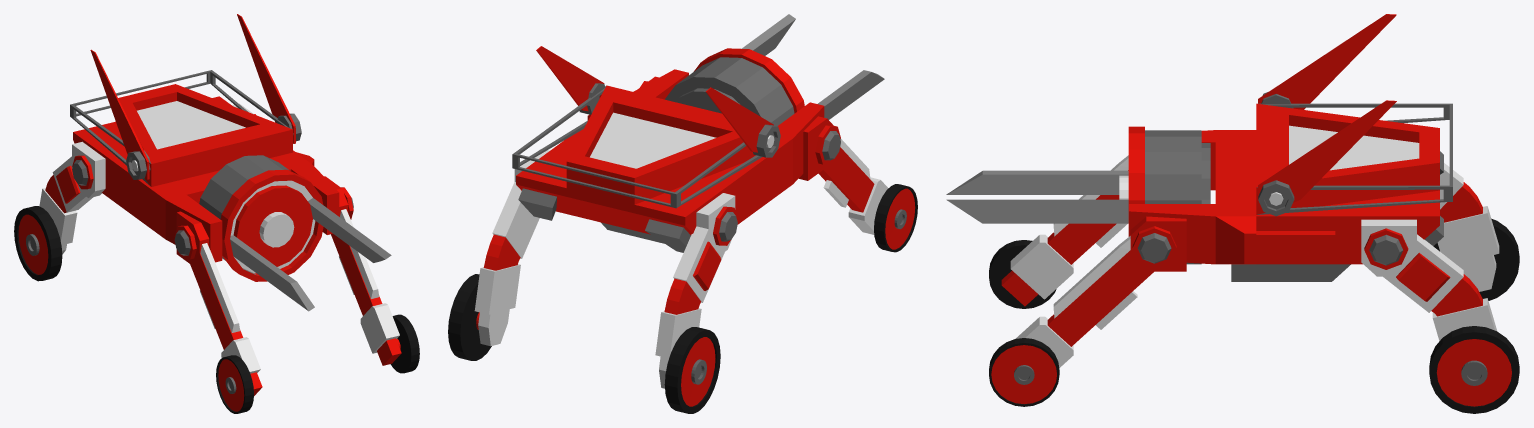
The model's file is enemy_3.fbx.
3 renders of one model, left to right at view 1: azimuth 30°, elevation 25°; view 2: azimuth 150°, elevation 25°; view 3: azimuth 270°, elevation 25°, orthographic. The views are drawn at different scales.
Visible parts, largest first — view 1: Body, Blases, Legs_Front, Legs_back, Ears, Wheels_Front, Wheels_back; view 2: Body, Legs_back, Blases, Wheels_back, Legs_Front, Ears, Wheels_Front; view 3: Body, Blases, Legs_Front, Legs_back, Wheels_back, Ears, Wheels_Front.
Boxes of the visible parts, x1=… form: Body: x1=70, y1=70, x2=339, y2=262; Blases: x1=199, y1=155, x2=391, y2=311; Legs_Front: x1=174, y1=176, x2=401, y2=395; Legs_back: x1=39, y1=103, x2=255, y2=254; Ears: x1=90, y1=14, x2=301, y2=179; Wheels_Front: x1=216, y1=314, x2=419, y2=413; Wheels_back: x1=14, y1=206, x2=62, y2=281; Body: x1=512, y1=69, x2=824, y2=252; Legs_back: x1=474, y1=148, x2=737, y2=388; Blases: x1=665, y1=14, x2=884, y2=126; Wheels_back: x1=448, y1=274, x2=720, y2=413; Legs_Front: x1=639, y1=76, x2=888, y2=234; Ears: x1=536, y1=46, x2=780, y2=157; Wheels_Front: x1=874, y1=184, x2=917, y2=252; Body: x1=1129, y1=103, x2=1452, y2=281; Blases: x1=946, y1=126, x2=1210, y2=264; Legs_Front: x1=1001, y1=155, x2=1186, y2=367; Legs_back: x1=1361, y1=163, x2=1499, y2=340; Wheels_back: x1=1429, y1=218, x2=1519, y2=413; Ears: x1=1257, y1=14, x2=1396, y2=216; Wheels_Front: x1=989, y1=240, x2=1059, y2=406.
Bounding box in the file's own units: 135 × 158 × 274.
